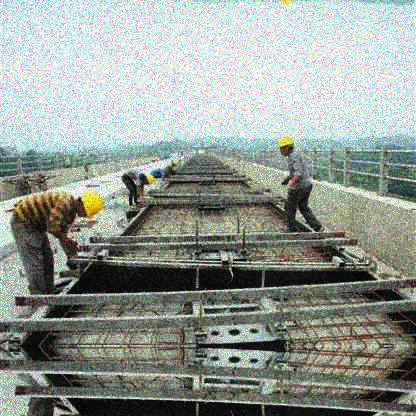helmet: (75, 192, 105, 217), (278, 133, 293, 156), (144, 176, 156, 185), (172, 162, 179, 166)
